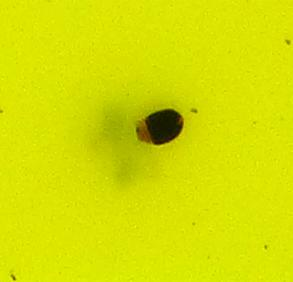Coleoptera: (135, 106, 184, 145)
